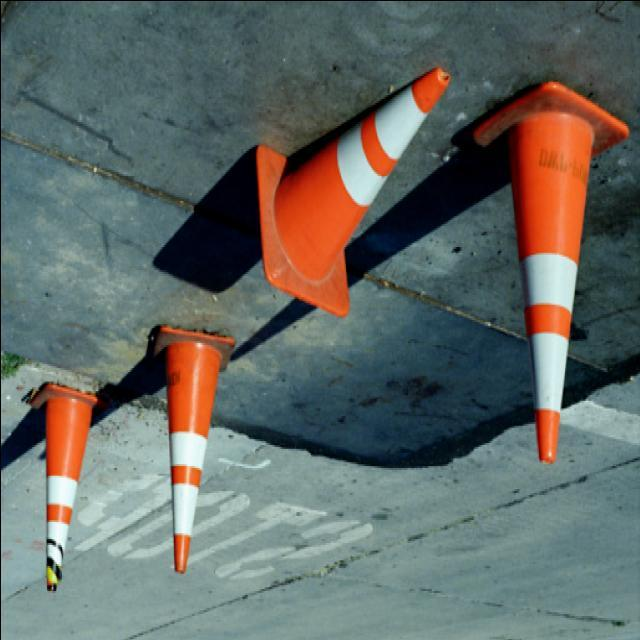traffic cone: (451, 80, 629, 465), (255, 66, 452, 317)
